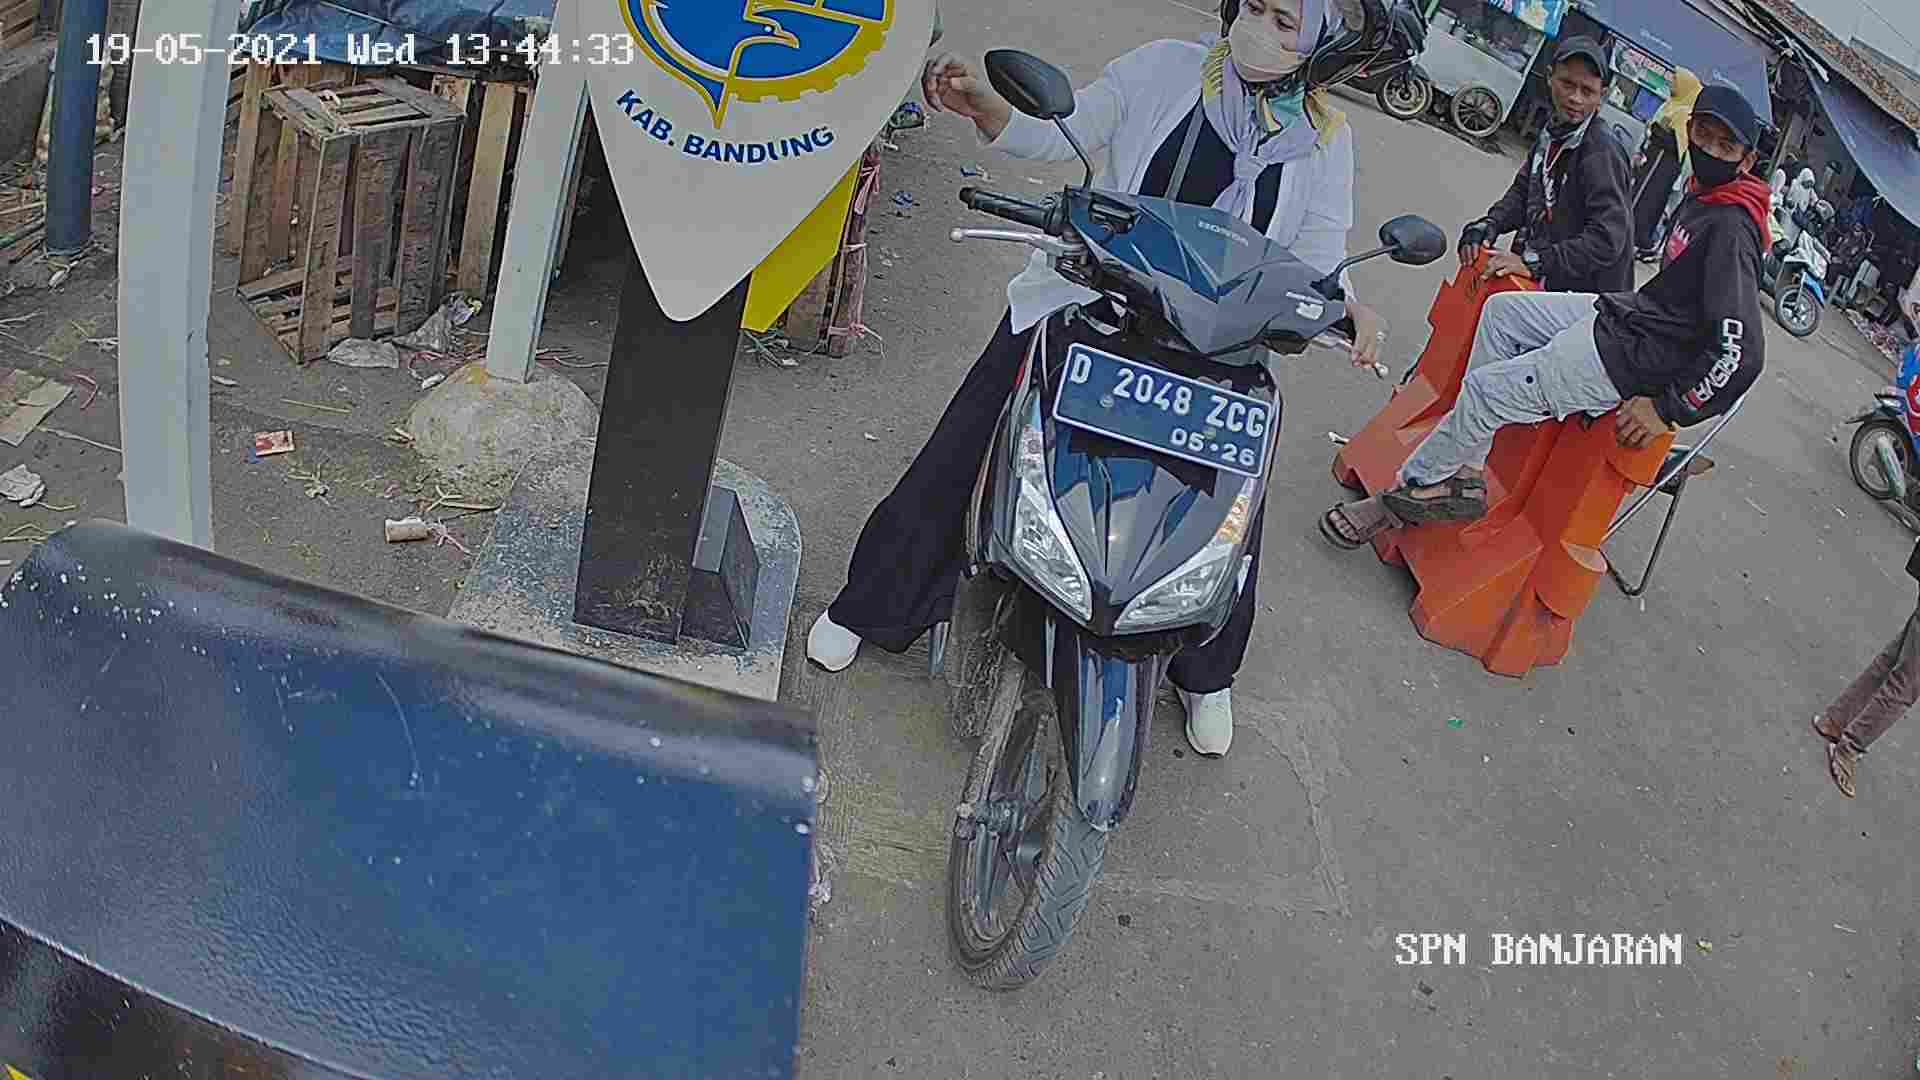motor: (913, 169, 1338, 1004)
